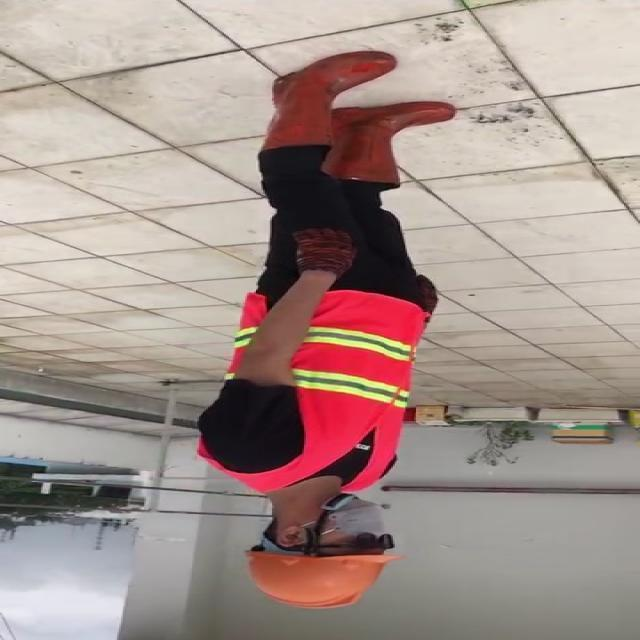Boots: (256, 50, 395, 153), (322, 101, 457, 184)
Gloves: (289, 224, 366, 279)
Helmet: (241, 546, 399, 610)
Vest: (191, 292, 420, 497)
